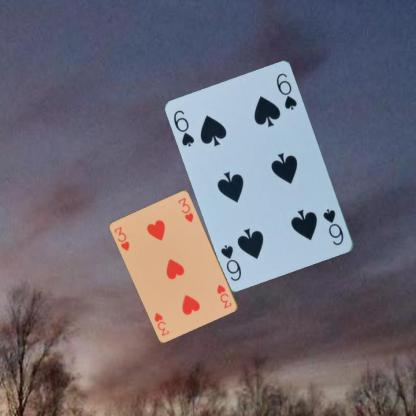3h: (214, 282, 233, 310), (112, 224, 131, 252)
6s: (171, 107, 196, 148), (321, 206, 345, 247)
